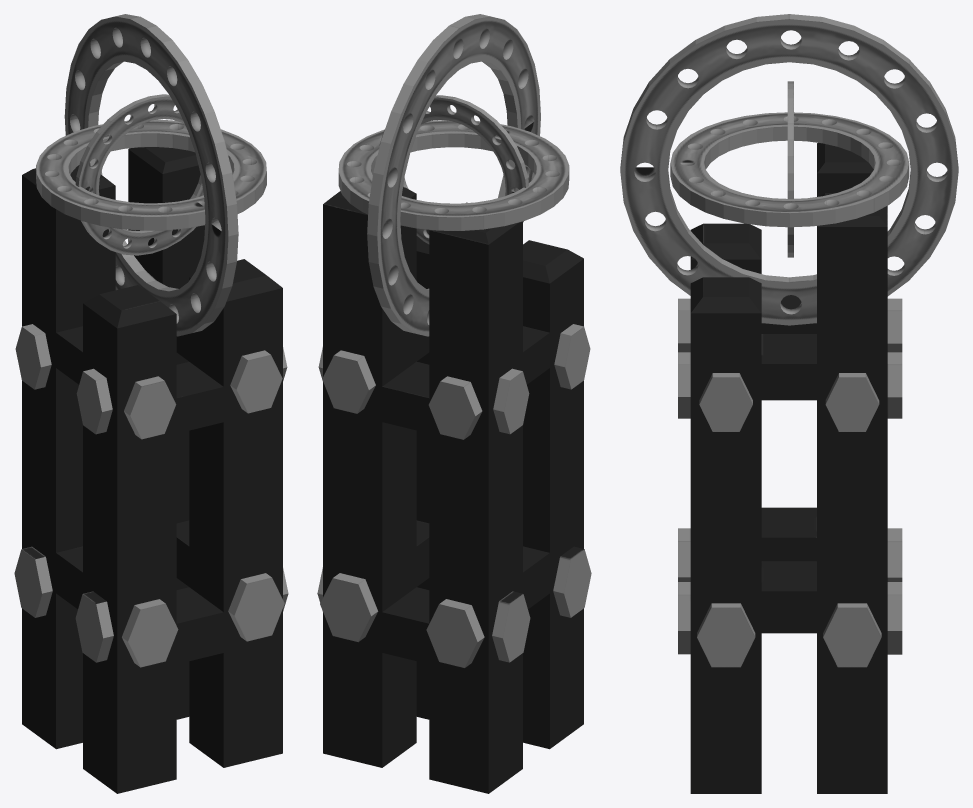
Rendered from tugu khatulistiwa.fbx.
3 views of the same model, side by side, from view 1: azimuth 30°, elevation 25°; view 2: azimuth 150°, elevation 25°; view 3: azimuth 270°, elevation 25° (orthographic). The views are drawn at different scales.
Visible parts, largest first — view 1: Cube; view 2: Cube; view 3: Cube.
Boxes of the visible parts, x1=… form: Cube: x1=14, y1=14, x2=288, y2=793; Cube: x1=317, y1=14, x2=591, y2=793; Cube: x1=620, y1=14, x2=958, y2=793.
Size of the model in its own units: 240 by 816 by 340.
